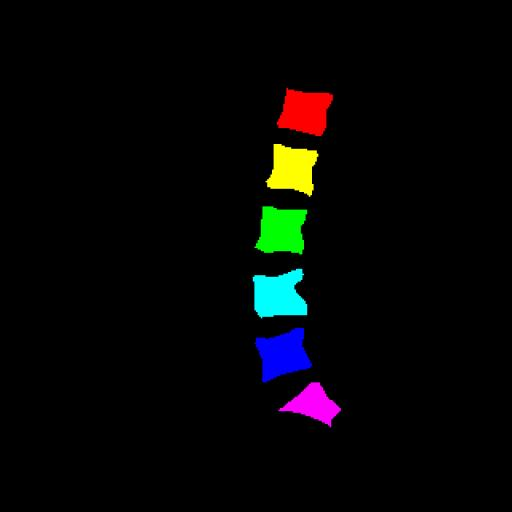L1: (278, 88, 333, 136)
L2: (267, 144, 317, 196)
L3: (255, 206, 307, 254)
L4: (253, 269, 307, 318)
L5: (256, 328, 311, 382)
S1: (279, 382, 341, 426)
